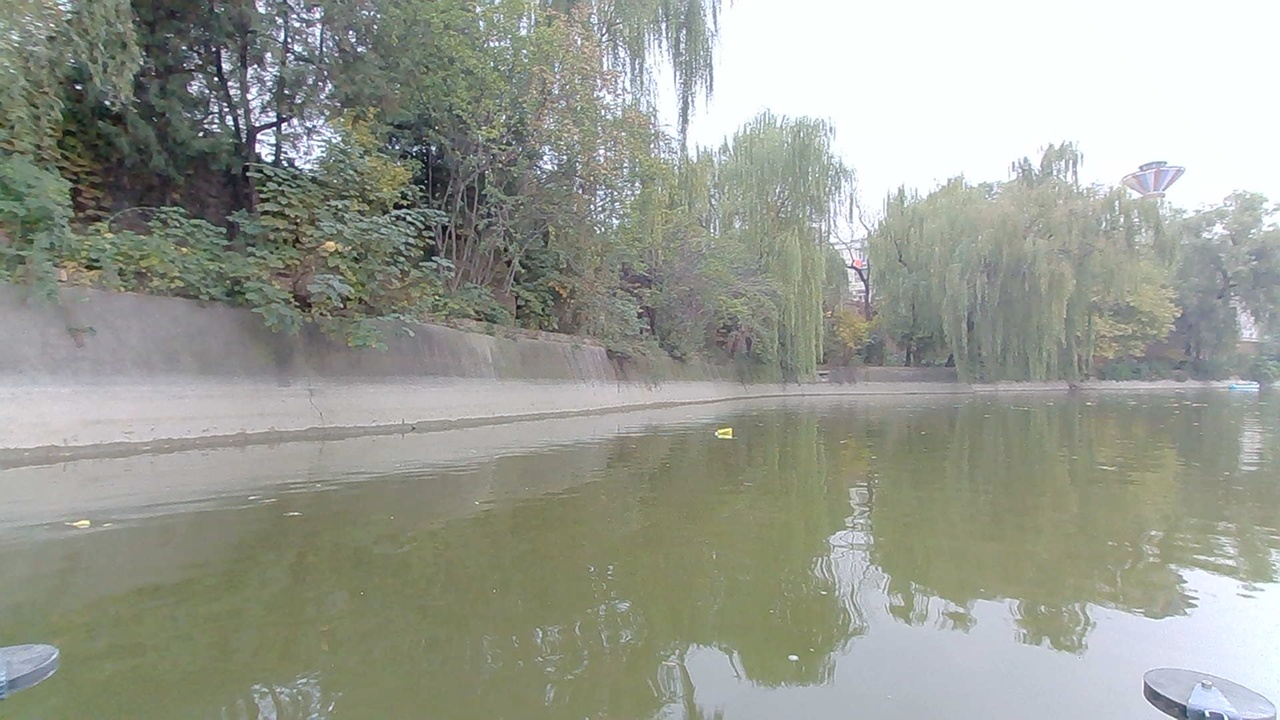bottle: (710, 422, 744, 445)
